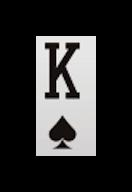KS: (39, 39, 89, 153)
